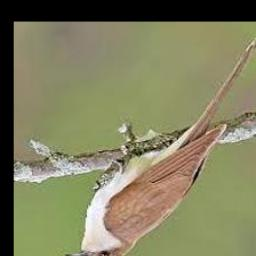Cuckoo: (64, 34, 256, 256)
